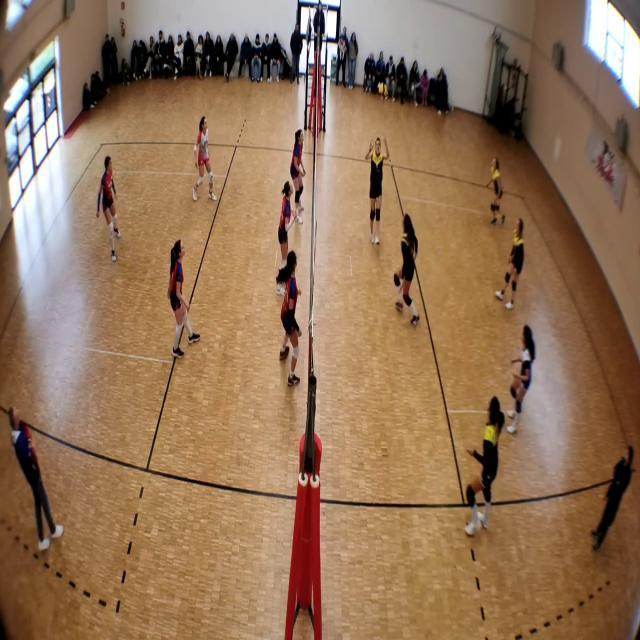volleyball: (378, 82, 388, 98)
